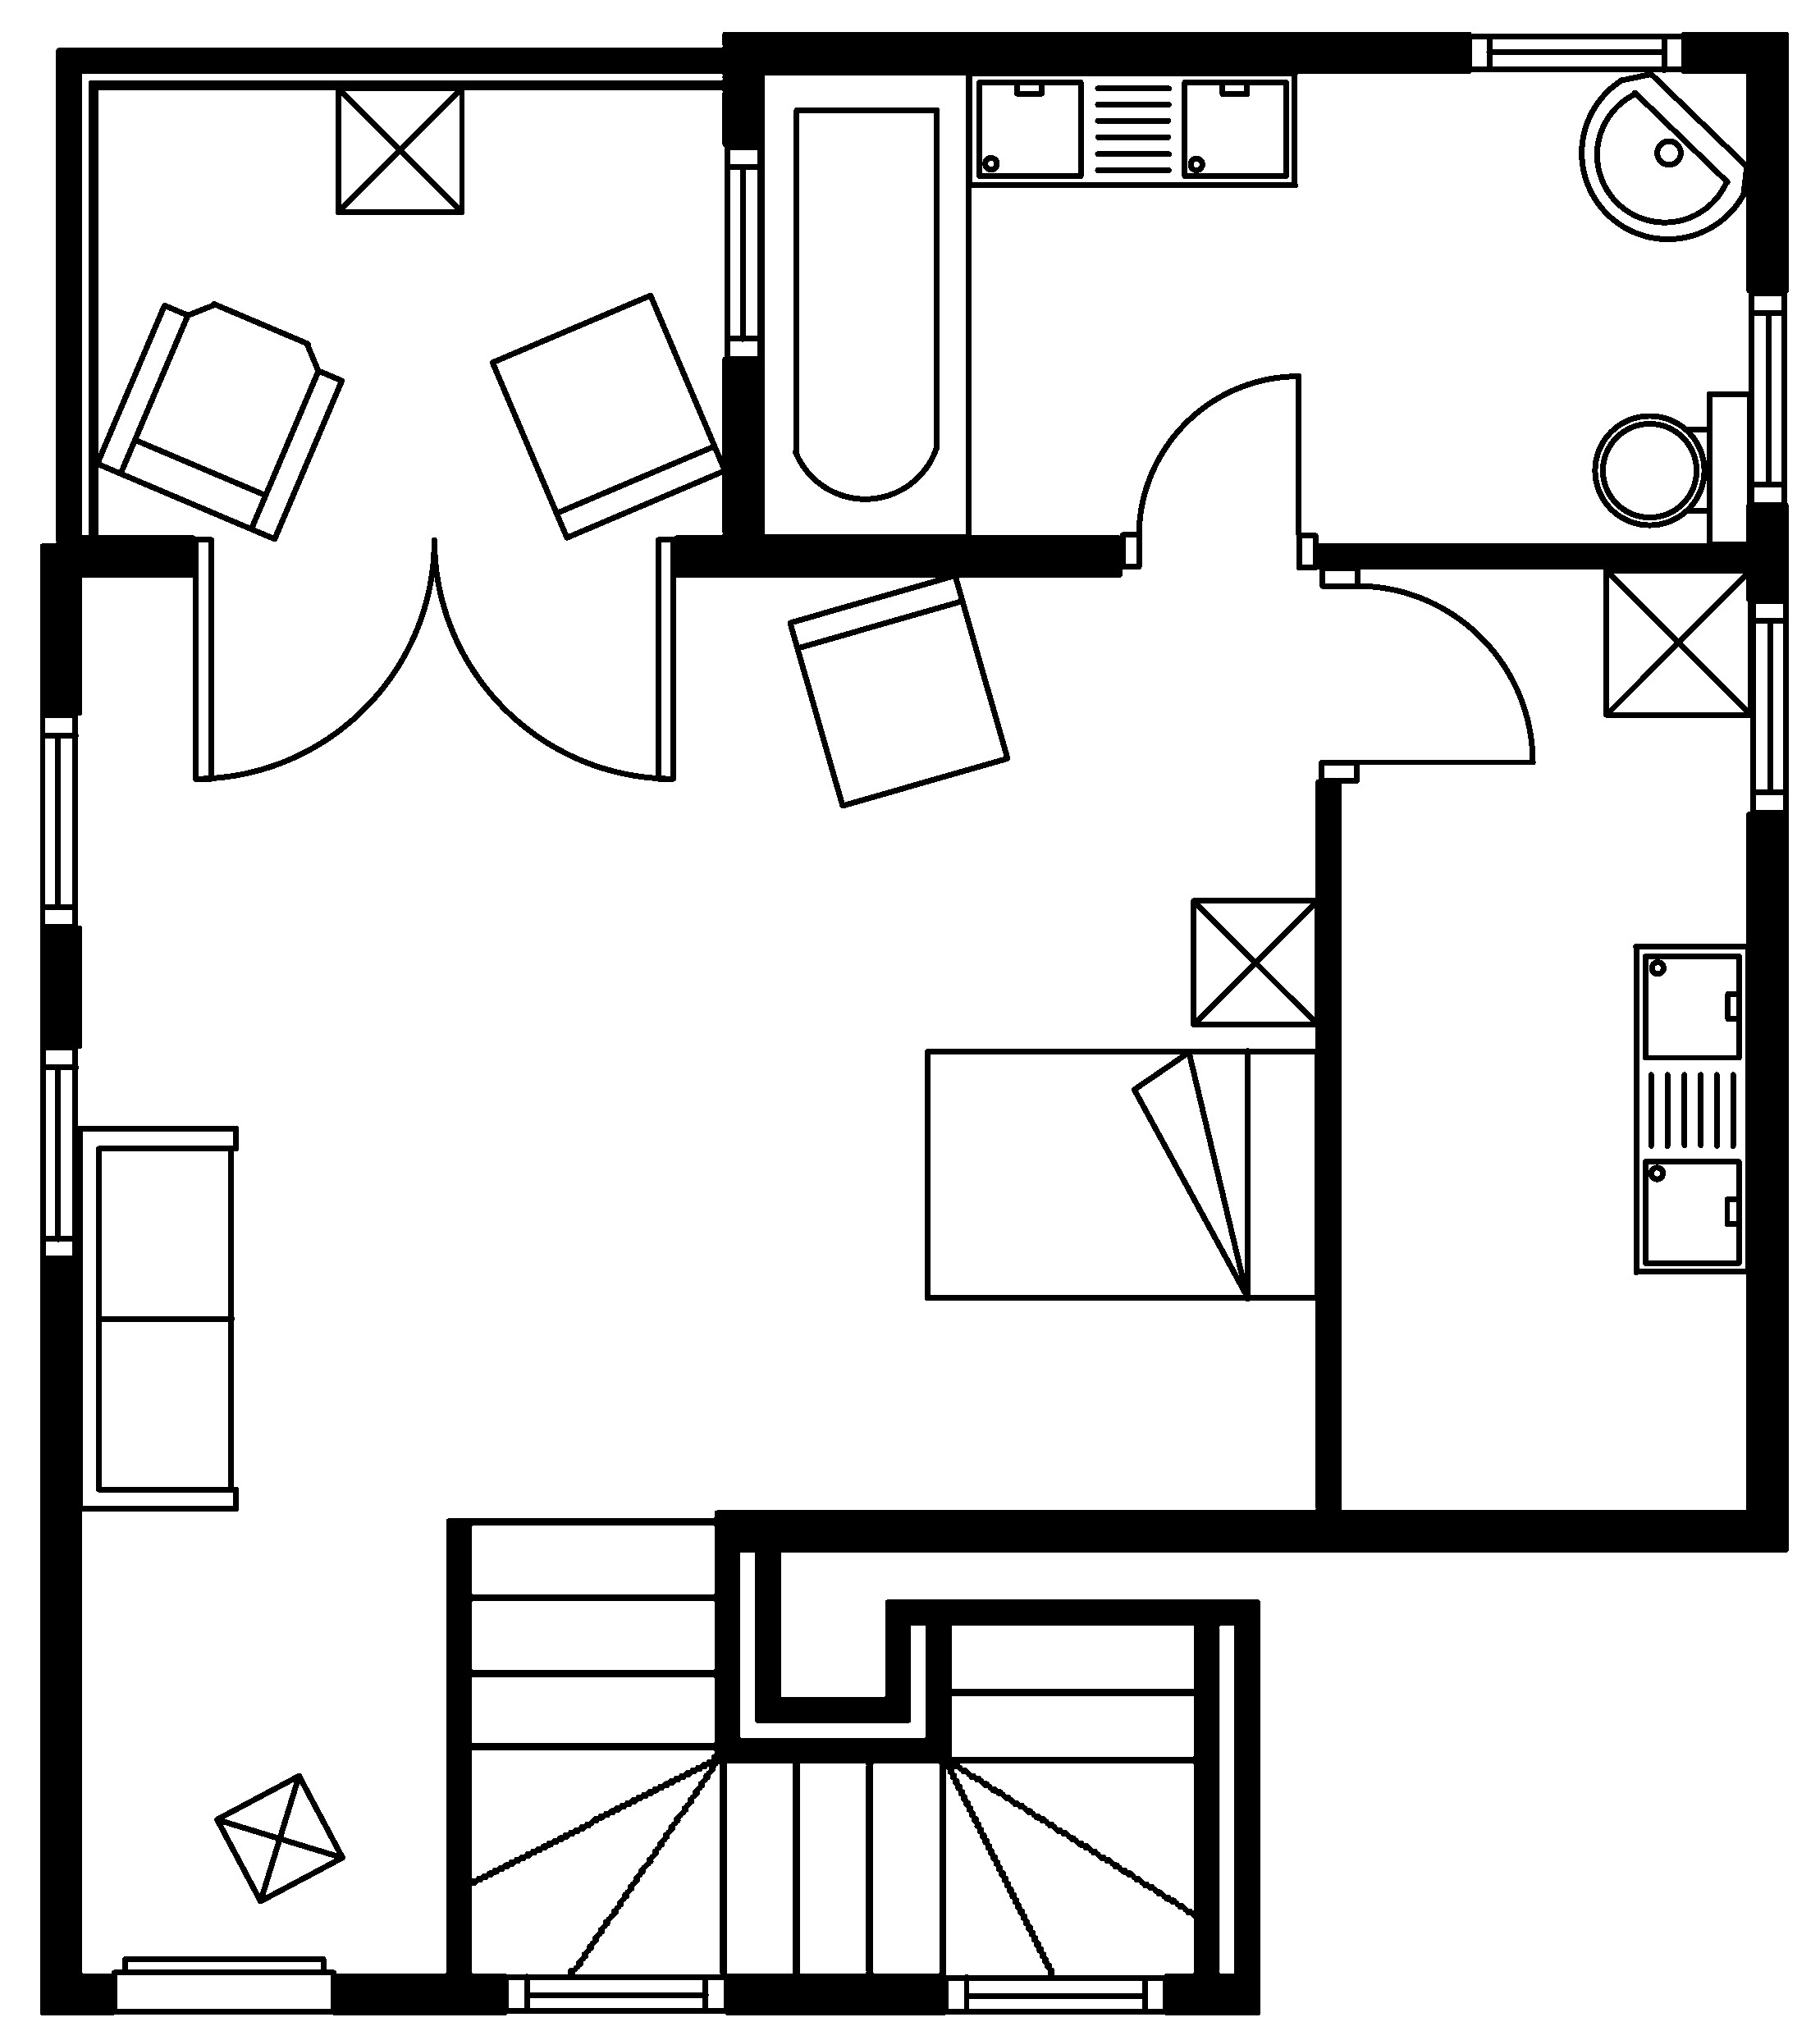armchair: (93, 299, 344, 543)
bed: (922, 1047, 1321, 1302)
coffee_table: (1602, 566, 1753, 719), (213, 1771, 346, 1905), (1189, 896, 1321, 1028), (334, 84, 466, 214)
large_sink: (1592, 388, 1753, 548)
large_sofa: (76, 1124, 239, 1513)
small_sink: (1578, 70, 1750, 241)
small_sofa: (488, 290, 727, 541), (785, 571, 1010, 810)
tub: (757, 69, 971, 539)
twin_sink: (1630, 942, 1751, 1276), (964, 69, 1298, 188)
